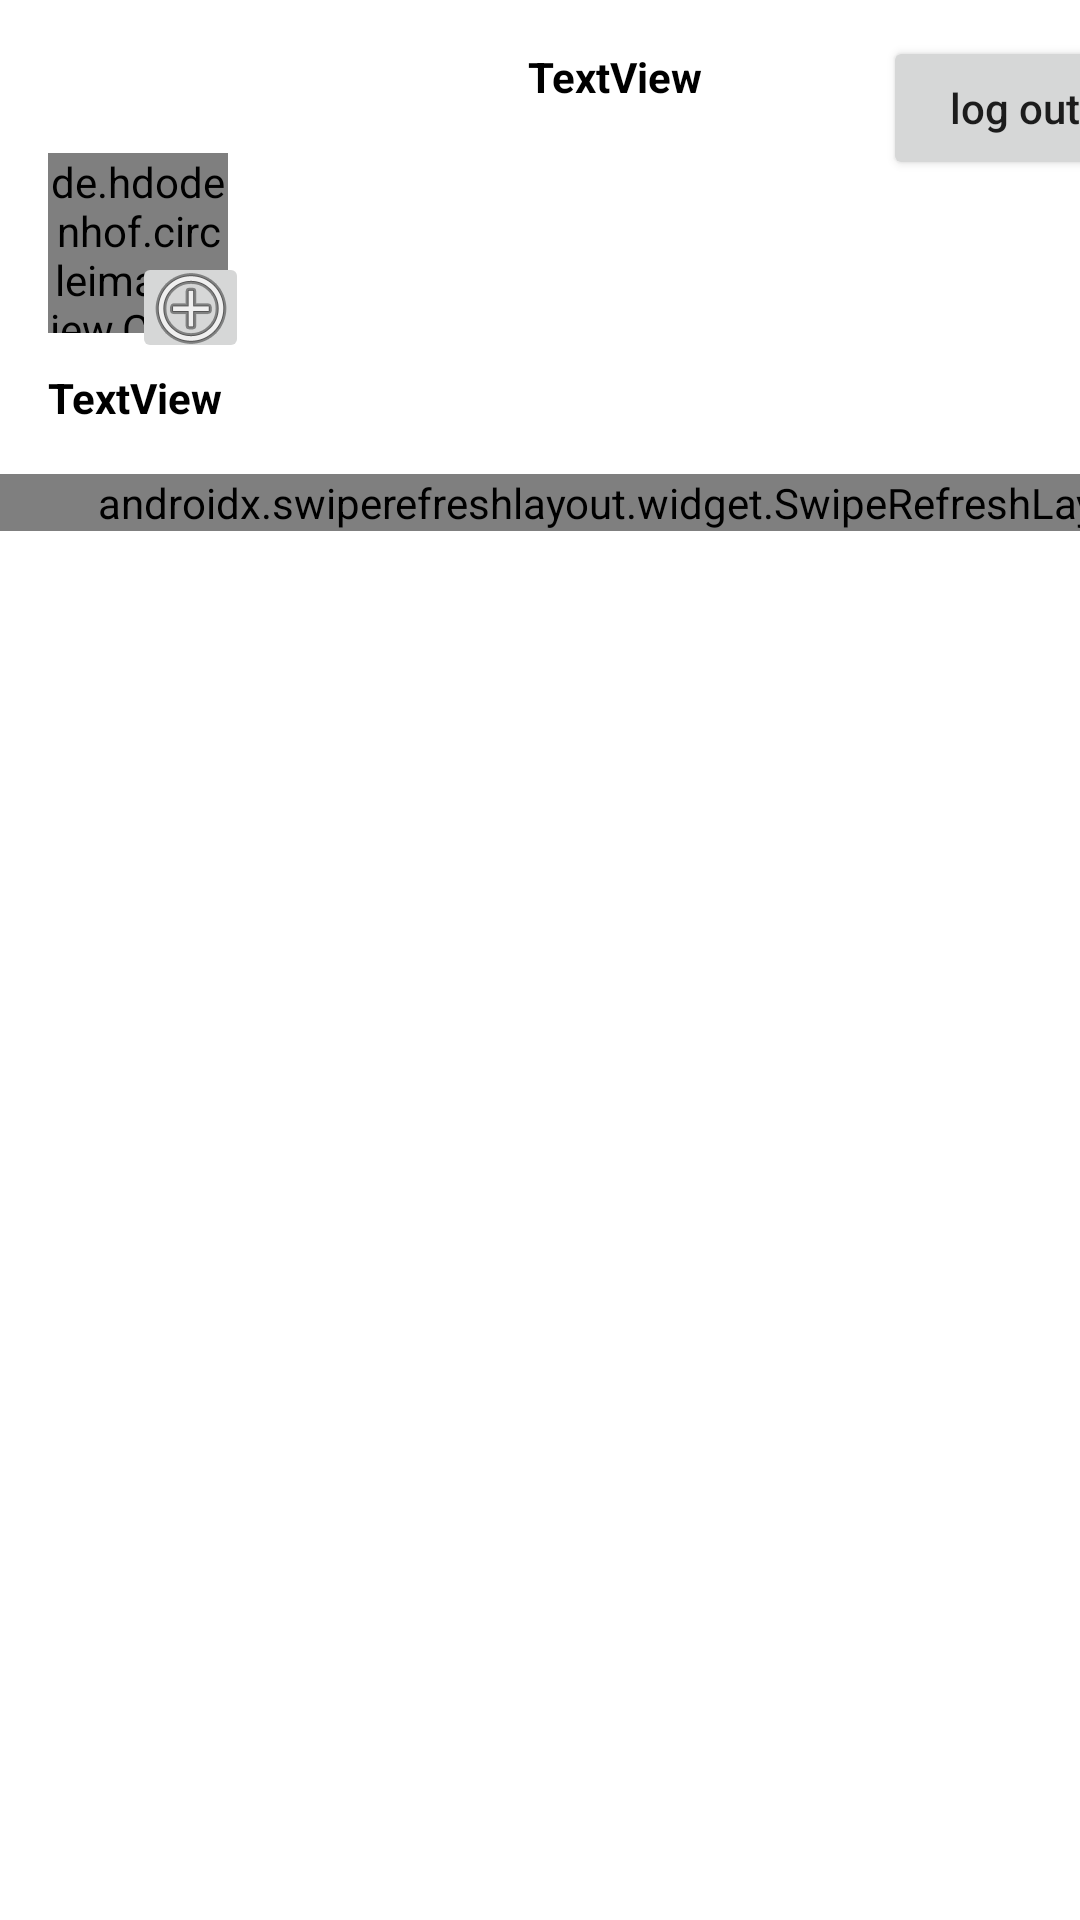

Where icons sit on this 1080*1920 app screen, as (x1, y1, x2, y2):
add: (132, 252, 237, 345)
